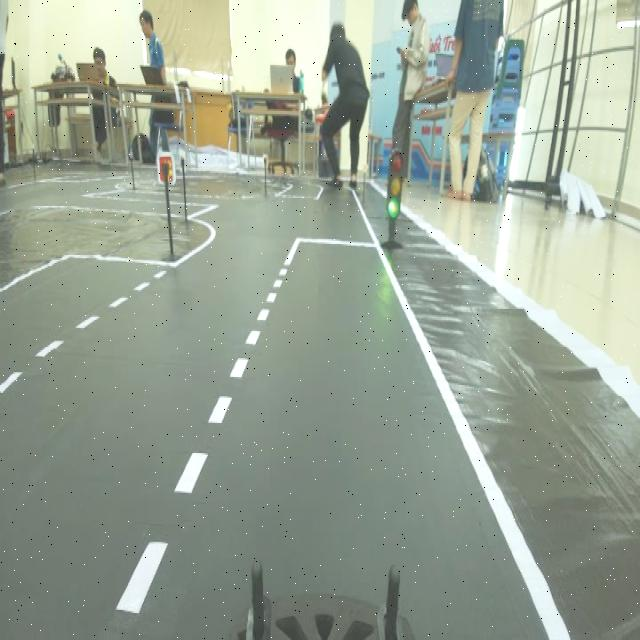trafficlight: (376, 146, 410, 256)
